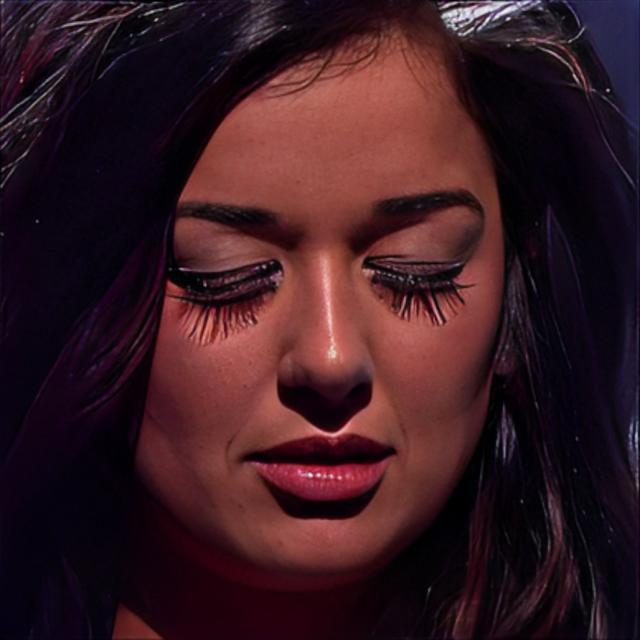sad: (130, 8, 509, 594)
